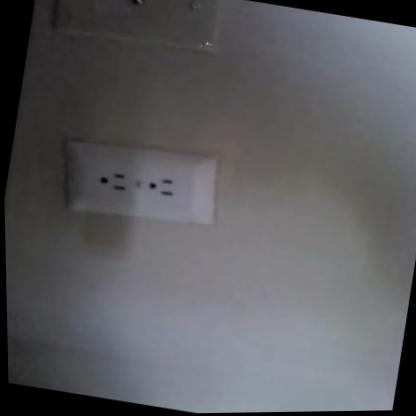OUTLET: (63, 132, 221, 232)
